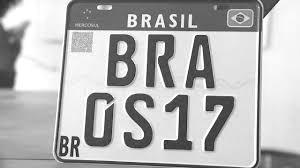placa_mercosul: (54, 0, 262, 167)
